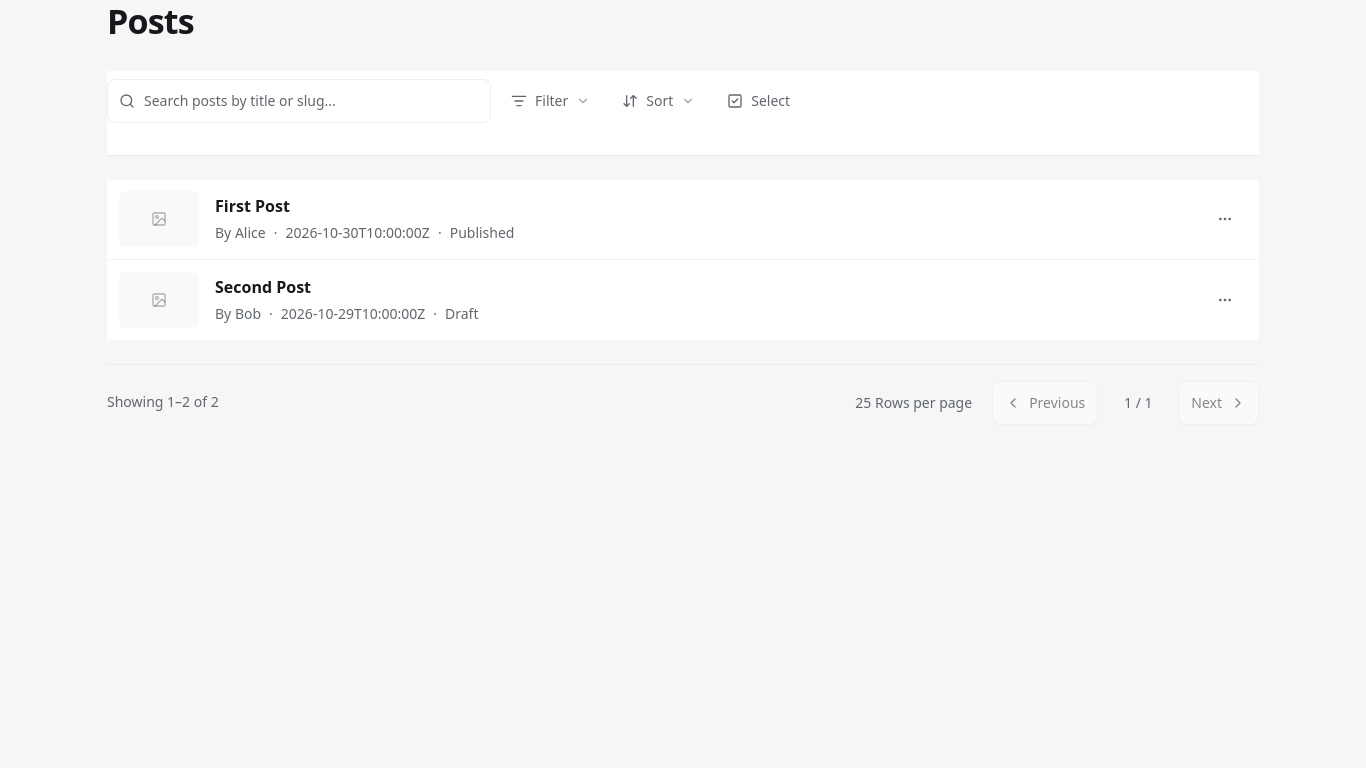
Scenario: Editorial Selection System — Posts and Pages lifecycle & stability › PagesList selection lifecycle › dialog traps keyboard focus with Tab and Shift+Tab
The width and height of the screenshot is (1366, 768).
What coordinates should you click on to do the following:
click the button named "More actions: First Post"
I would click on:
 (1225, 219)
Its box is [1203, 197, 1247, 241].
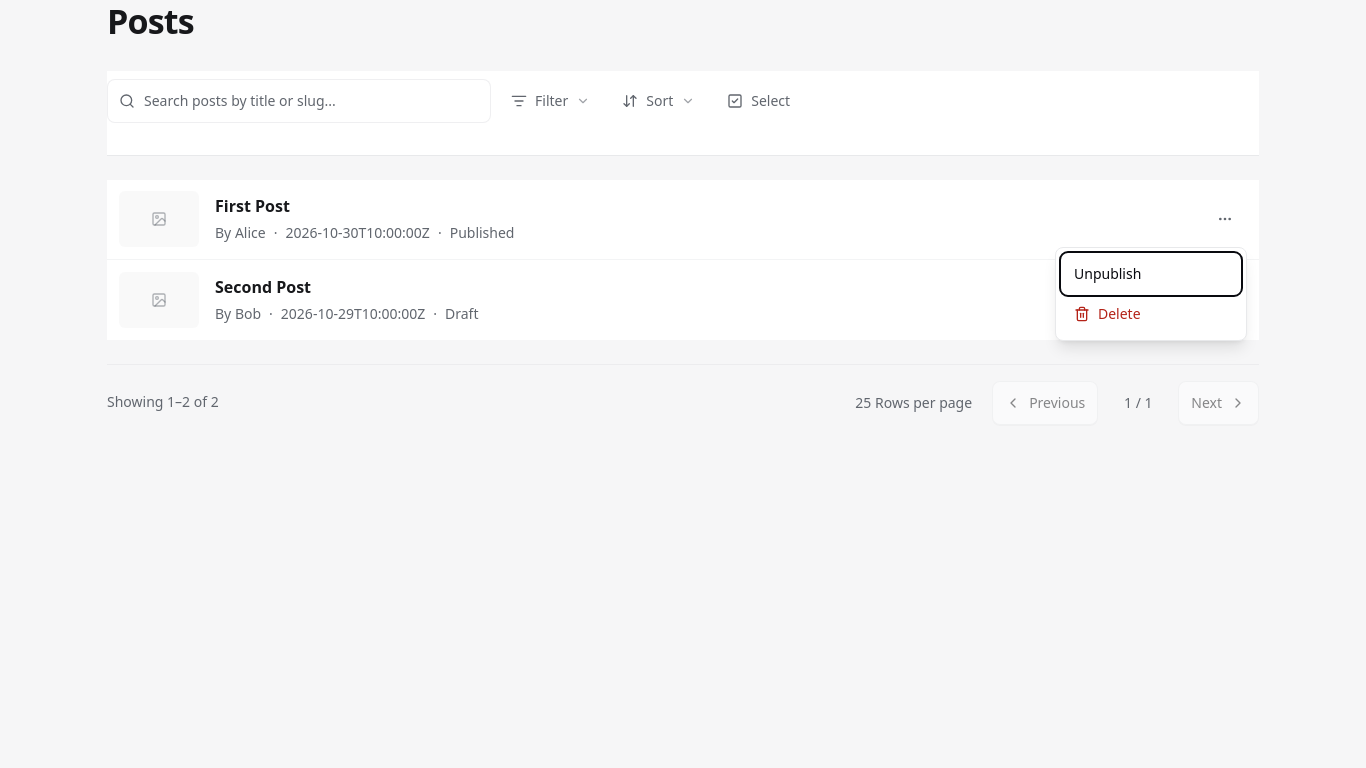
What coordinates should you click on to do the following:
click the menu item "Delete"
I would click on:
 (1151, 314)
Its box is [1062, 294, 1240, 334].
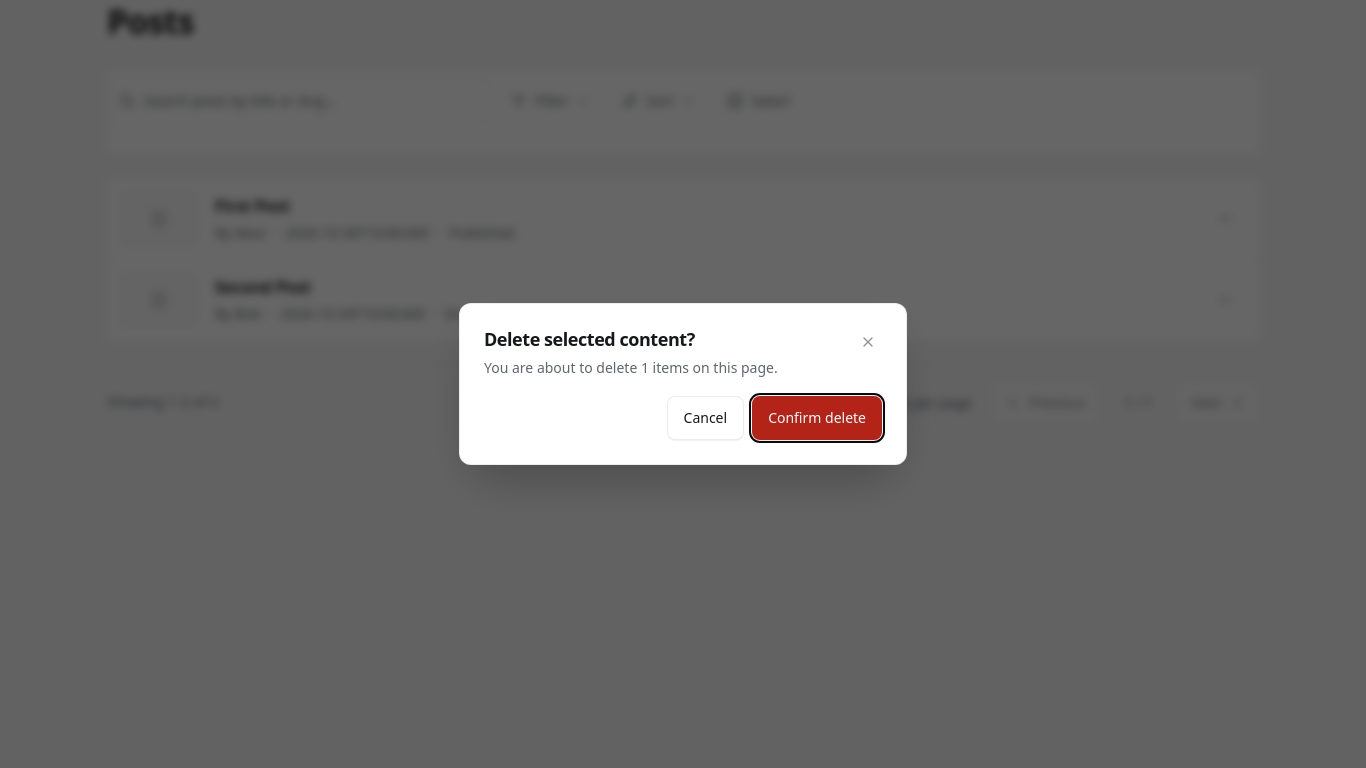
Now the dialog is shown
